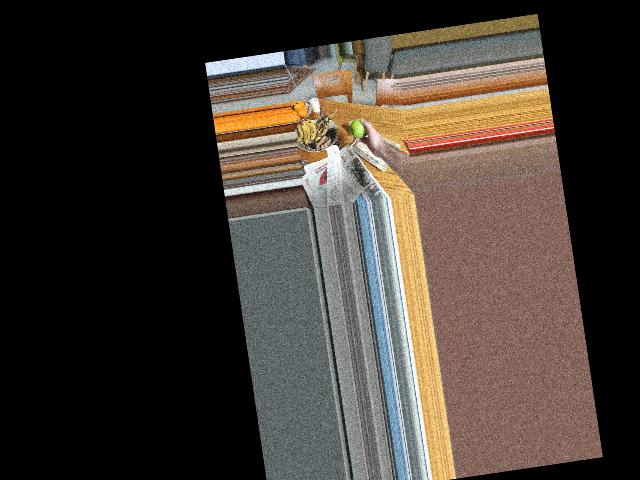apple: (348, 115, 371, 142)
